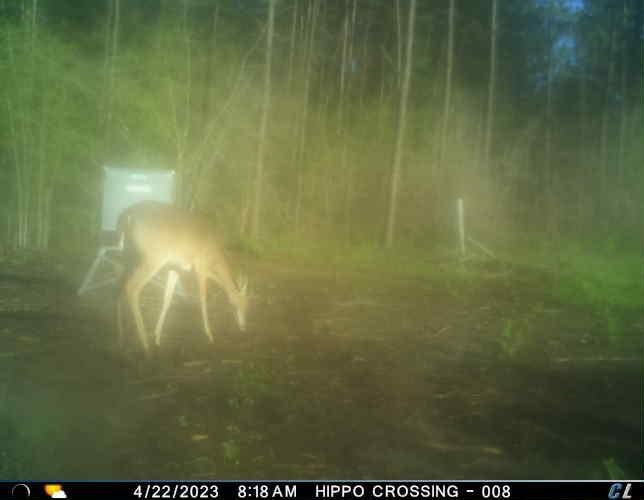Deer: (114, 196, 254, 360)
